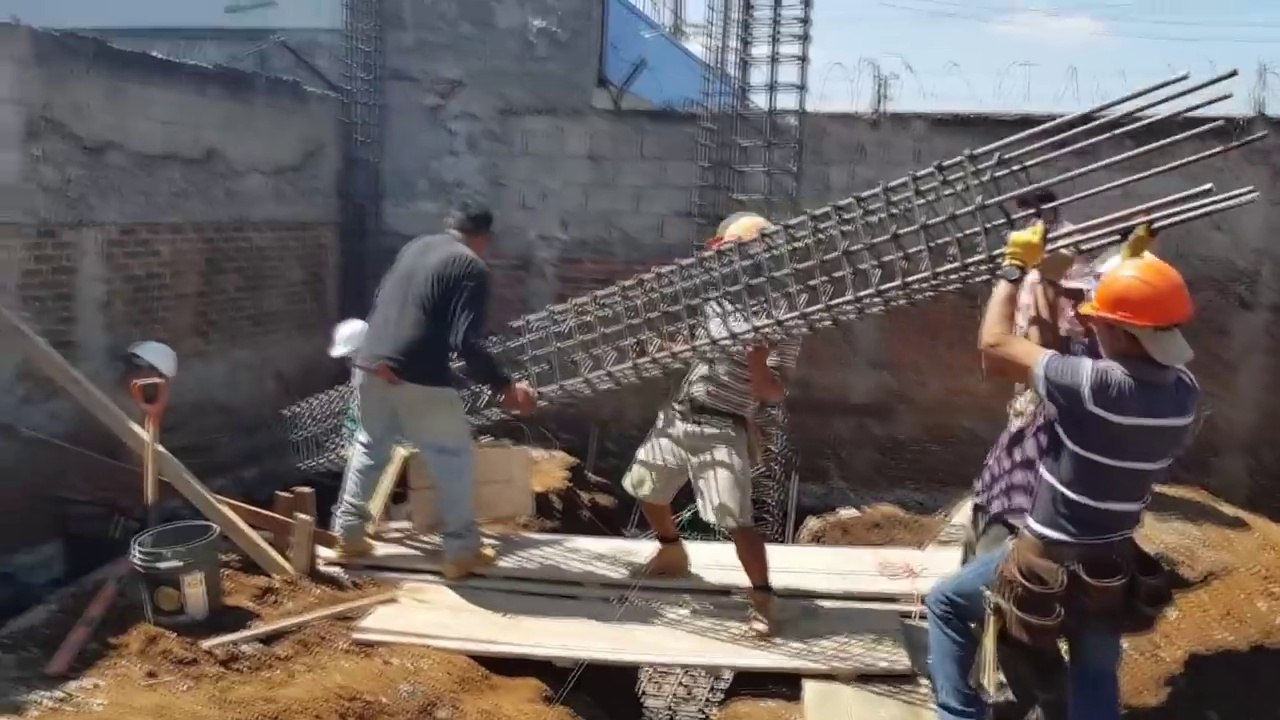helmet: (1066, 240, 1202, 332), (707, 208, 776, 259), (124, 340, 179, 391), (328, 326, 362, 356)
helmet-off: (447, 201, 499, 257), (1013, 183, 1063, 237)
helmet-on: (1072, 240, 1207, 376), (704, 206, 783, 302), (116, 338, 180, 400)
person: (927, 213, 1207, 718), (335, 194, 529, 584), (625, 204, 804, 624), (56, 332, 185, 559), (1006, 182, 1090, 356)
